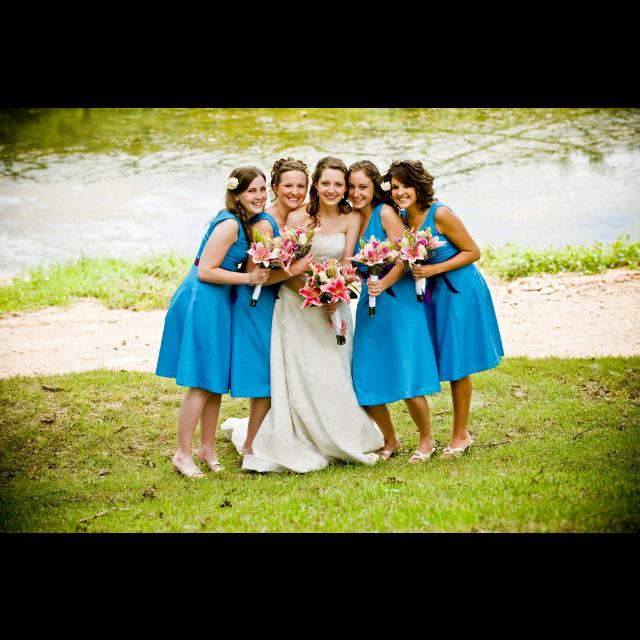Flower: (249, 222, 315, 274), (300, 258, 364, 308), (398, 227, 444, 266), (354, 236, 398, 266), (322, 276, 351, 302)
